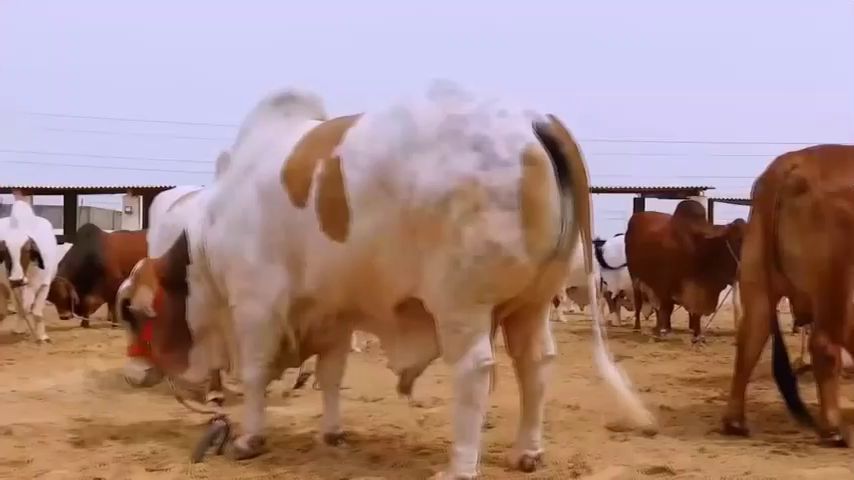bo: (107, 88, 663, 476), (696, 123, 854, 457), (623, 199, 751, 345), (34, 195, 155, 337), (1, 199, 64, 344), (579, 224, 642, 323)
